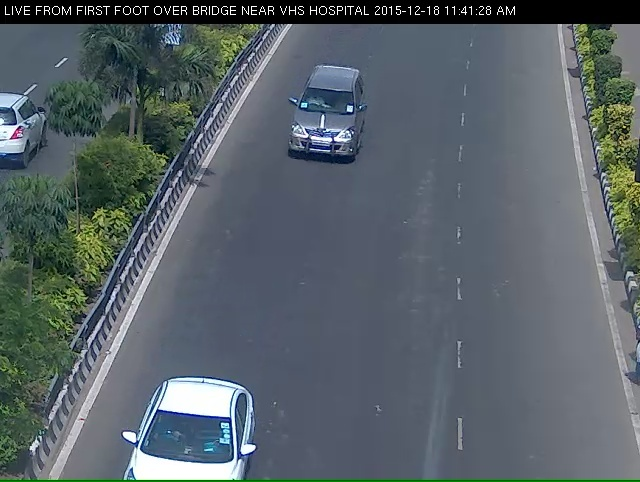Car: (123, 399, 254, 482), (284, 65, 370, 183)
